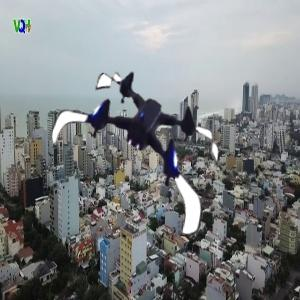drone: (49, 52, 226, 229)
